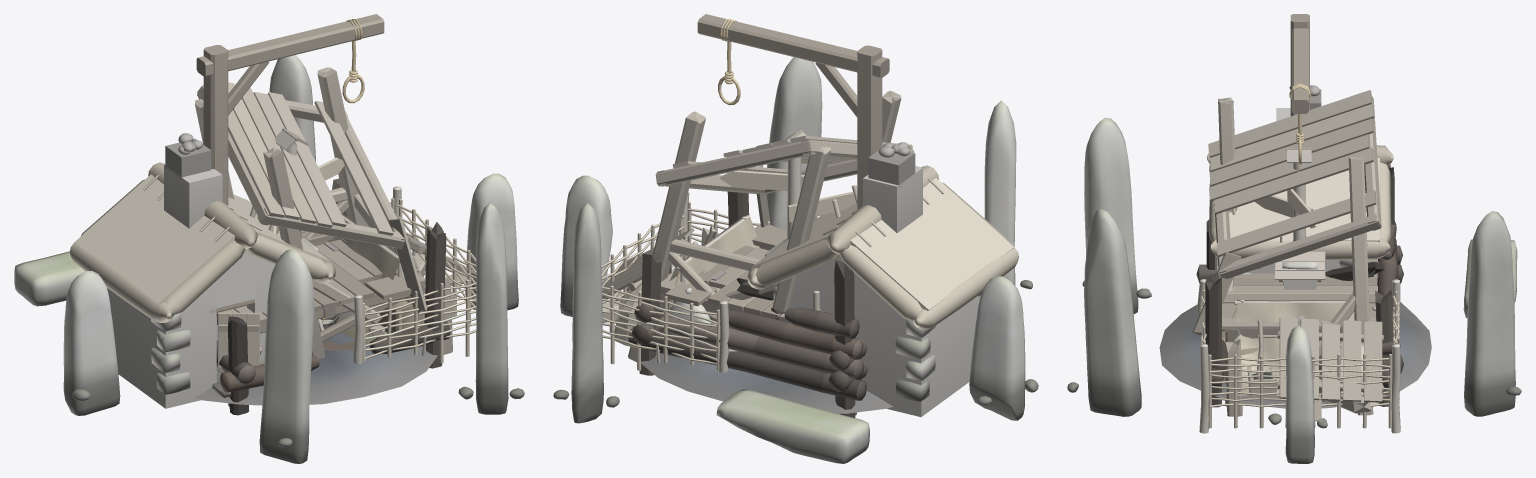
Rendered from wayside.glb.
3 views of the same model, side by side, from view 1: azimuth 30°, elevation 25°; view 2: azimuth 150°, elevation 25°; view 3: azimuth 270°, elevation 25° (orthographic). The views are drawn at different scales.
Parts seen in each view (by area): view 1: poi_shepherd_hut, poi_stones, poi_watchtower, poi_burned_cabin, poi_gallows, vignette_camp, wayside_signpost; view 2: poi_shepherd_hut, poi_stones, poi_burned_cabin, poi_watchtower, poi_gallows, wayside_signpost, vignette_camp, poi_graves; view 3: poi_watchtower, poi_stones, poi_shepherd_hut, poi_burned_cabin, poi_gallows, vignette_camp, wayside_shrine, wayside_signpost.
Boxes of the visible parts, box(x1,y1,x2,y2) form: poi_shepherd_hut: box(70, 162, 476, 408); poi_stones: box(14, 55, 524, 463); poi_watchtower: box(195, 67, 476, 358); poi_burned_cabin: box(164, 133, 450, 415); poi_gallows: box(196, 14, 425, 406); vignette_camp: box(260, 214, 426, 356); wayside_signpost: box(272, 128, 344, 234); poi_shepherd_hut: box(601, 165, 1018, 416); poi_stones: box(553, 57, 1038, 463); poi_burned_cabin: box(628, 142, 922, 417); poi_watchtower: box(602, 91, 914, 362); poi_gallows: box(660, 14, 889, 415); wayside_signpost: box(719, 130, 855, 239); vignette_camp: box(656, 215, 759, 363); poi_graves: box(667, 287, 822, 335); poi_watchtower: box(1192, 90, 1383, 421); poi_stones: box(1067, 117, 1521, 463); poi_shepherd_hut: box(1197, 145, 1400, 433); poi_burned_cabin: box(1159, 85, 1431, 408); poi_gallows: box(1222, 14, 1378, 406); vignette_camp: box(1222, 282, 1354, 395); wayside_shrine: box(1275, 236, 1325, 289); wayside_signpost: box(1255, 148, 1317, 241).
Size of the model in its own units: 5.14 by 3.59 by 4.73.
